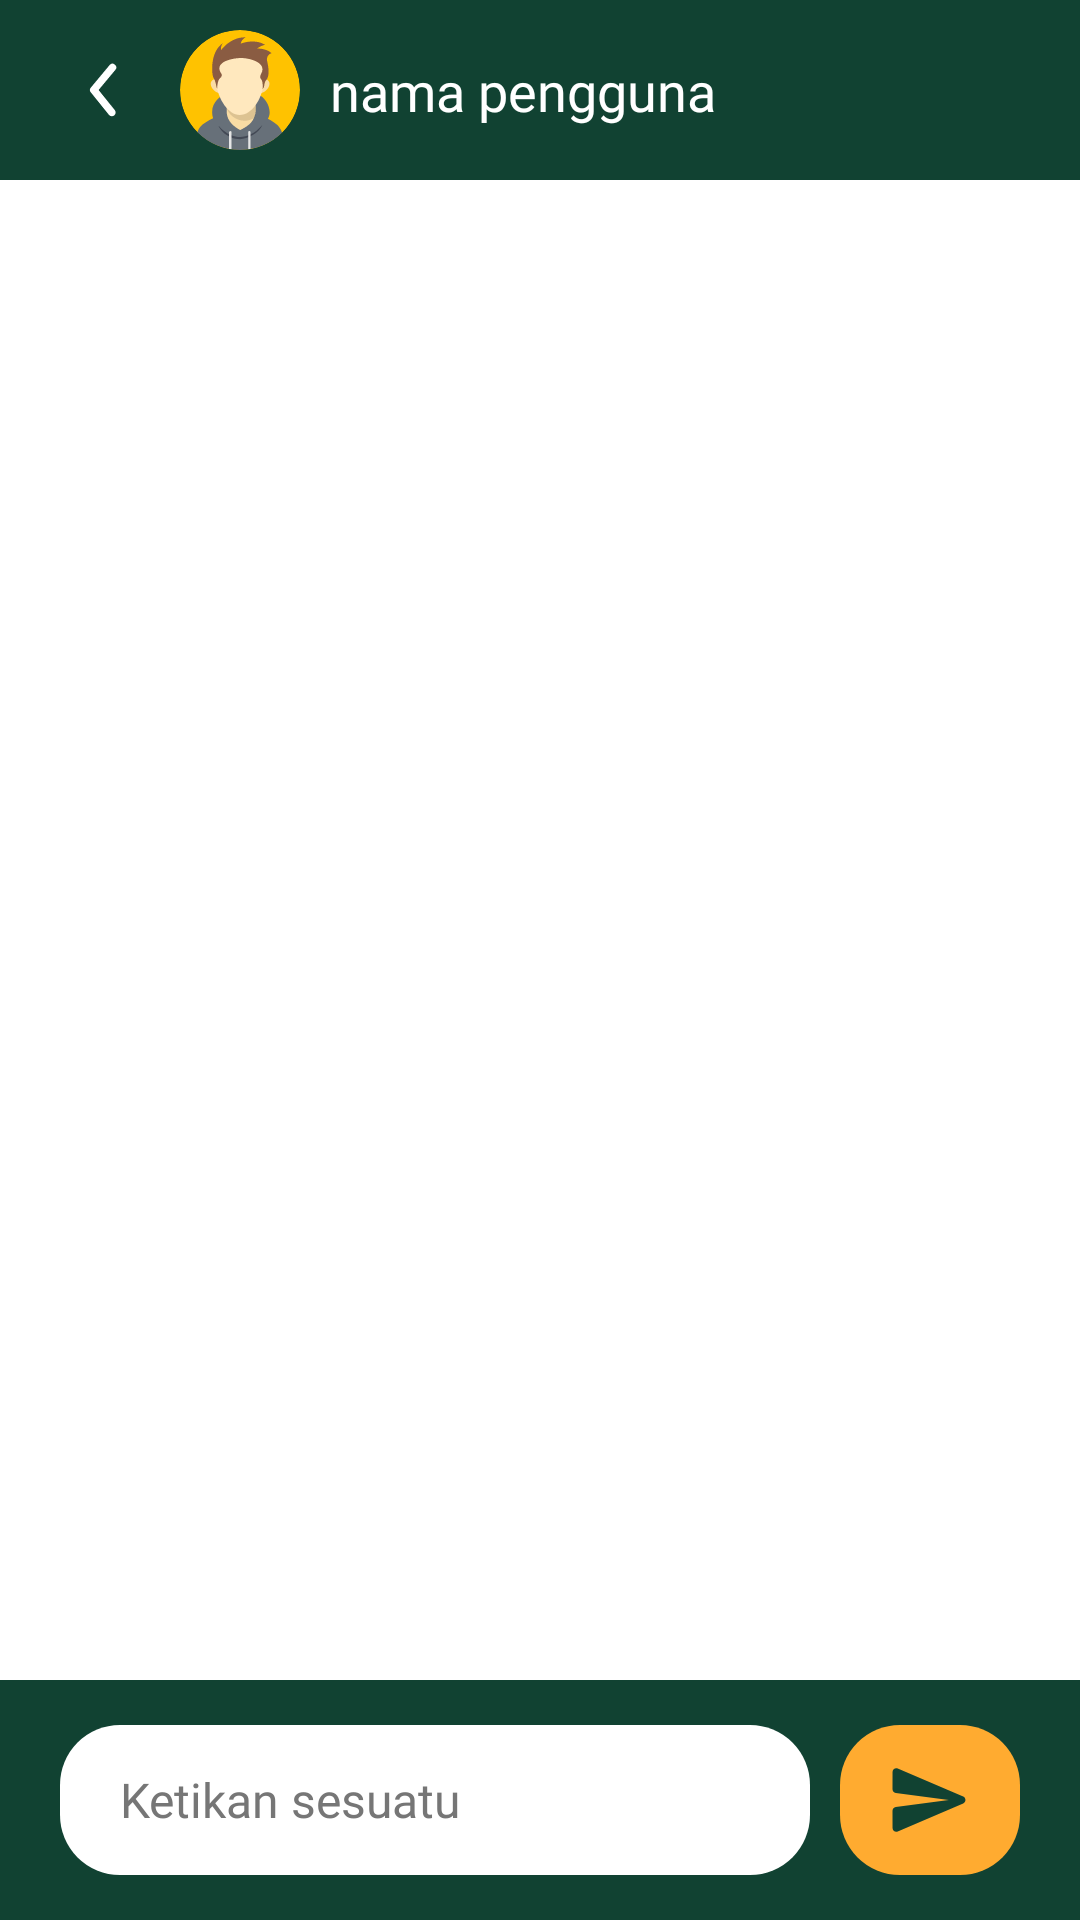

Where to tap for icons on this 1080 × 1920 app screen, as (x,y):
send: (930,1800)
